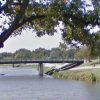Tree: (7, 1, 100, 48)
